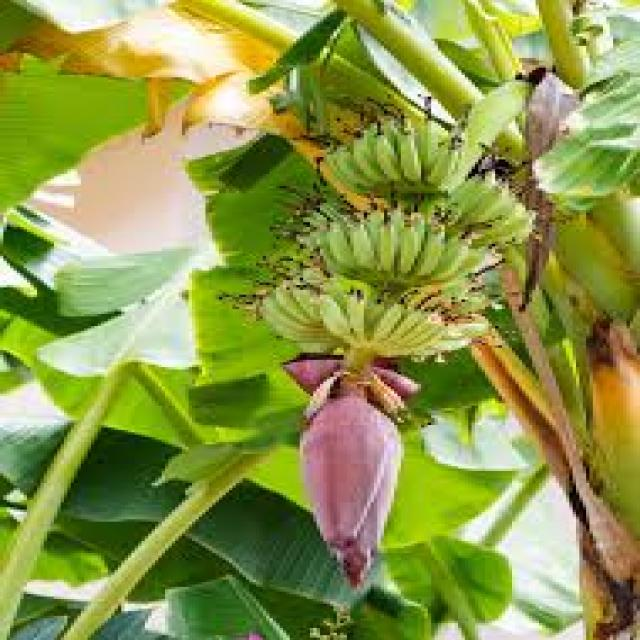banana: (261, 112, 496, 360)
